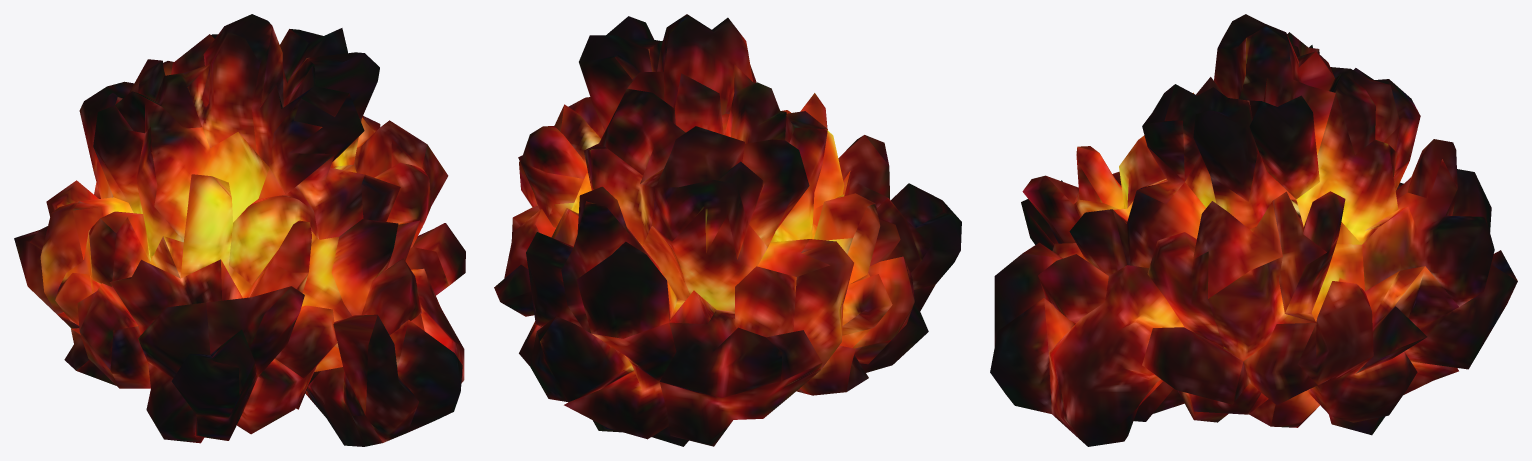
The model's file is crystal-creative_ai_02.glb.
The picture shows the model from 3 angles, left to right: view 1: azimuth 30°, elevation 25°; view 2: azimuth 150°, elevation 25°; view 3: azimuth 270°, elevation 25°; orthographic projection. The views are drawn at different scales.
Visible parts, largest first — view 1: mesh_node.003; view 2: mesh_node.003; view 3: mesh_node.003.
Boxes of the visible parts, bbox=[...] form: mesh_node.003: bbox=[14, 14, 465, 446]; mesh_node.003: bbox=[494, 14, 961, 446]; mesh_node.003: bbox=[990, 14, 1517, 446].
Bounding box in the file's own units: 0.2793 × 0.2729 × 0.334.
1 material, 1 textured.
